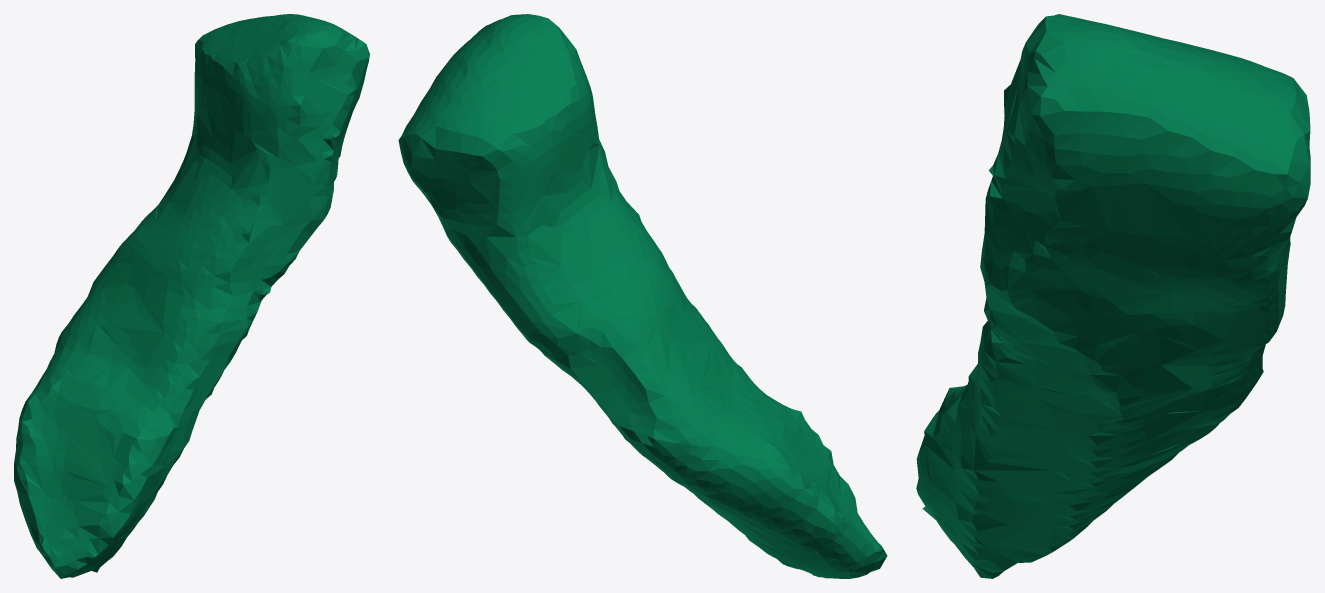
Rendered from Model_10213_LH__Dorsal_nucleus_of_the_endopiriform_claustrum_(DEn).obj.
The picture shows the model from 3 angles, left to right: view 1: azimuth 30°, elevation 25°; view 2: azimuth 150°, elevation 25°; view 3: azimuth 270°, elevation 25°; orthographic projection. The views are drawn at different scales.
Size of the model in its own units: 2.92 by 3.73 by 1.8.
